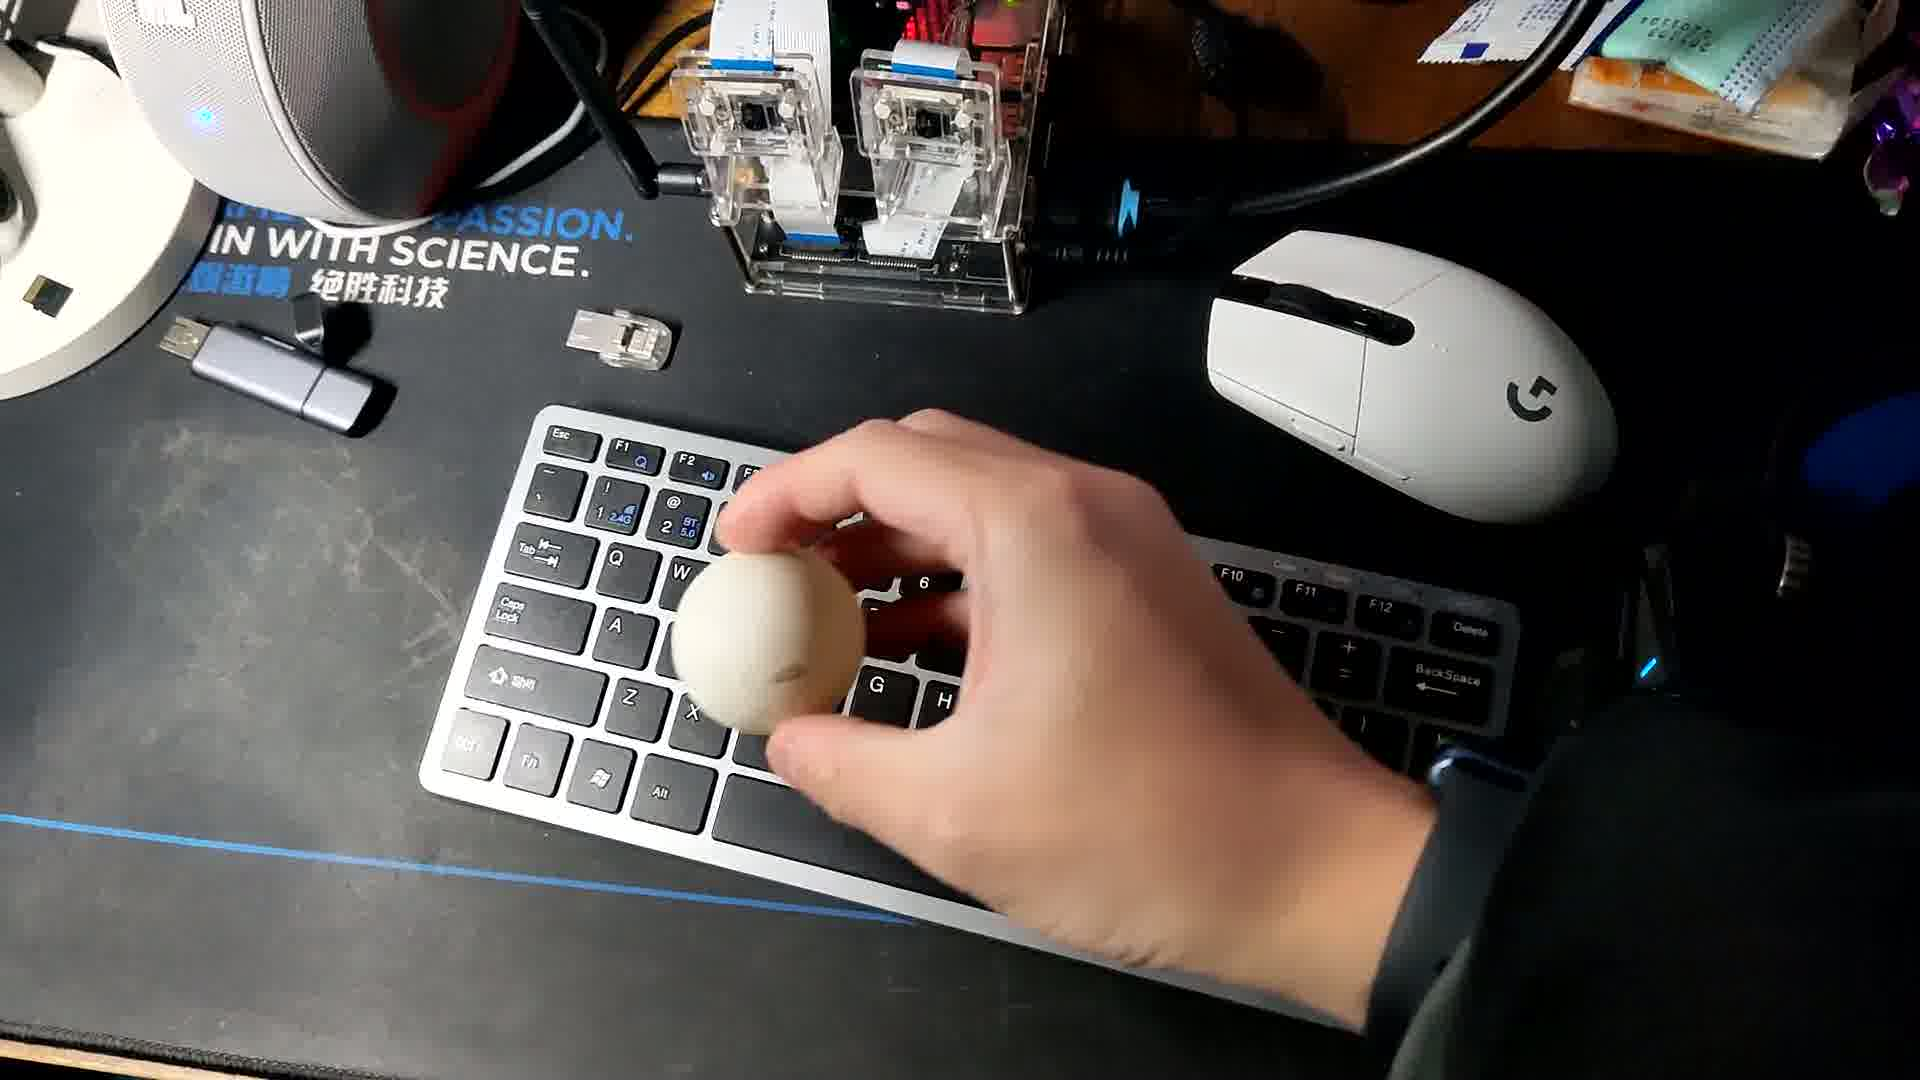Ball: (673, 553, 870, 741)
